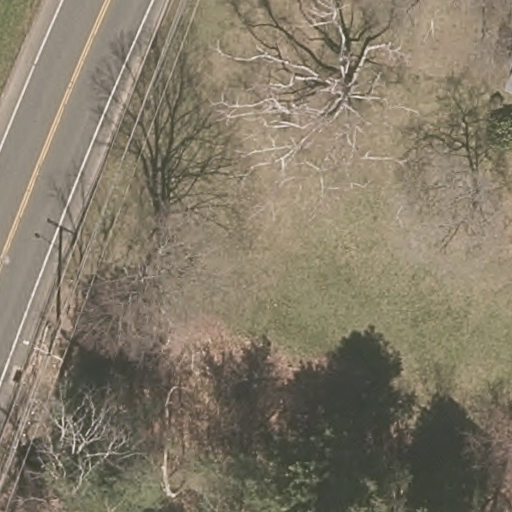DT: (23, 340, 61, 361)
